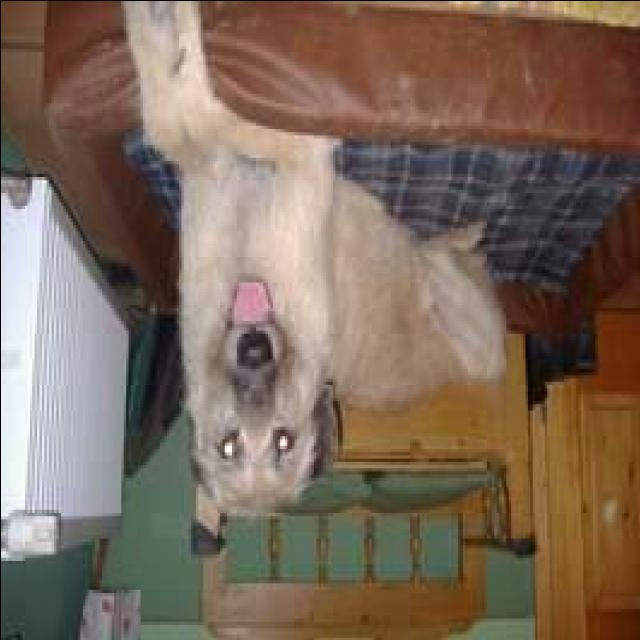irish_wolfhound: (125, 3, 510, 560)
